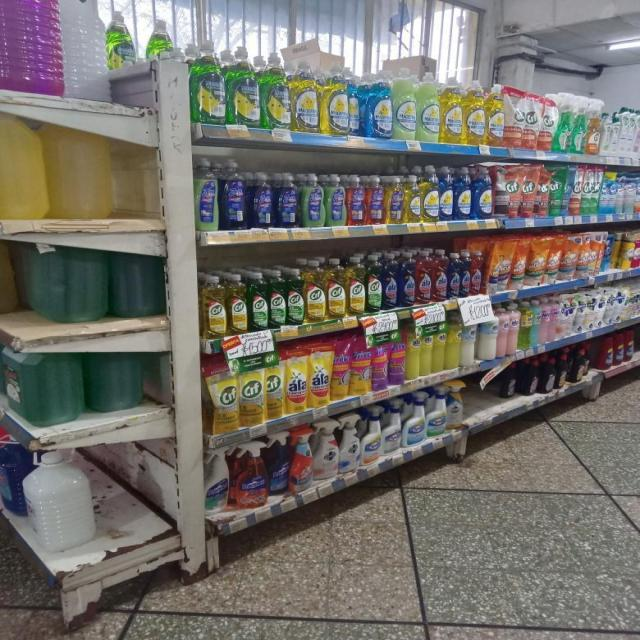ala_conc_azul: (398, 250, 415, 307), (382, 252, 397, 309), (448, 250, 459, 299), (460, 250, 470, 298)
ala_conc_rojo: (416, 248, 431, 304), (432, 249, 447, 302), (471, 248, 483, 296)
ala_crem_amarillo: (406, 320, 420, 381), (433, 317, 446, 373), (421, 320, 432, 377)
ala_crem_rosado: (498, 304, 510, 357)
ala_sachet_amarillo: (285, 347, 307, 413), (308, 343, 330, 408)
cif_conc_bot_amarilla: (200, 274, 226, 338), (304, 258, 325, 323), (226, 273, 247, 334), (346, 254, 365, 316), (326, 258, 345, 319)
cif_conc_botella_verde: (248, 271, 268, 331), (286, 268, 304, 325), (269, 268, 285, 328), (366, 253, 382, 312)
cif_conc_sachet_amarillo: (210, 356, 238, 433), (240, 353, 265, 427), (266, 350, 285, 420)
drive: (352, 332, 371, 396), (332, 336, 350, 402), (373, 329, 388, 392)
magistral_con_amarillo: (292, 58, 320, 133), (321, 61, 349, 135), (441, 78, 463, 144), (464, 81, 485, 145), (486, 84, 504, 147), (422, 165, 438, 222), (404, 173, 421, 223)
magistral_con_azul: (367, 70, 392, 139), (474, 164, 493, 220), (348, 66, 362, 136), (455, 166, 472, 220), (439, 165, 454, 221)
magistral_con_crema: (394, 66, 416, 140), (418, 70, 440, 142)
zorro: (301, 172, 324, 228), (325, 173, 345, 227), (384, 175, 404, 224), (366, 174, 384, 226), (346, 175, 364, 226)
